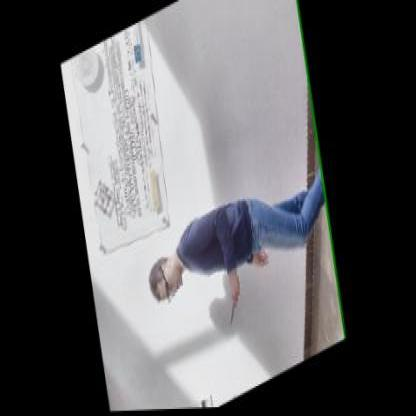knife: (224, 276, 249, 325)
